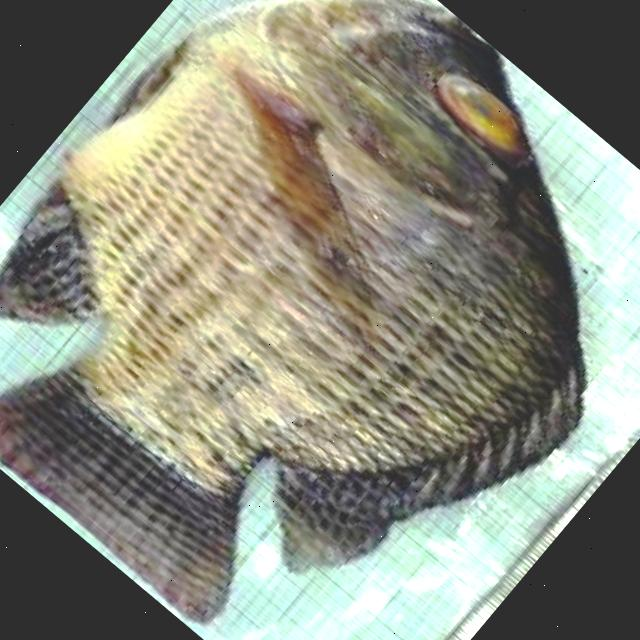Tilapia Lake Virus -TiLV-: (0, 0, 585, 623), (0, 0, 585, 622)
